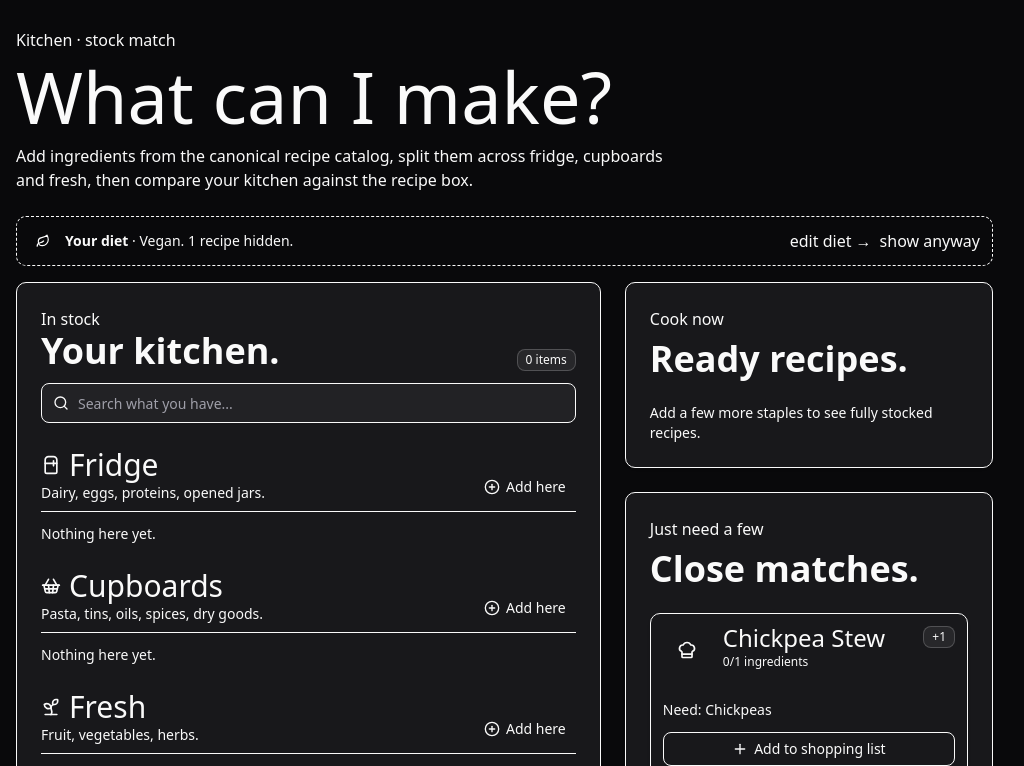
Test case: KitchenView diet ingredient catalog › hides mismatched recipes until the user chooses to show them
This screenshot has width=1024, height=766.
Expected: the text "Bacon Pasta" is not shown
Expected: the text "Chickpea Stew" is shown, [723,626,911,650]
Click the button "show anyway": x=930, y=241 [880,229,980,253]
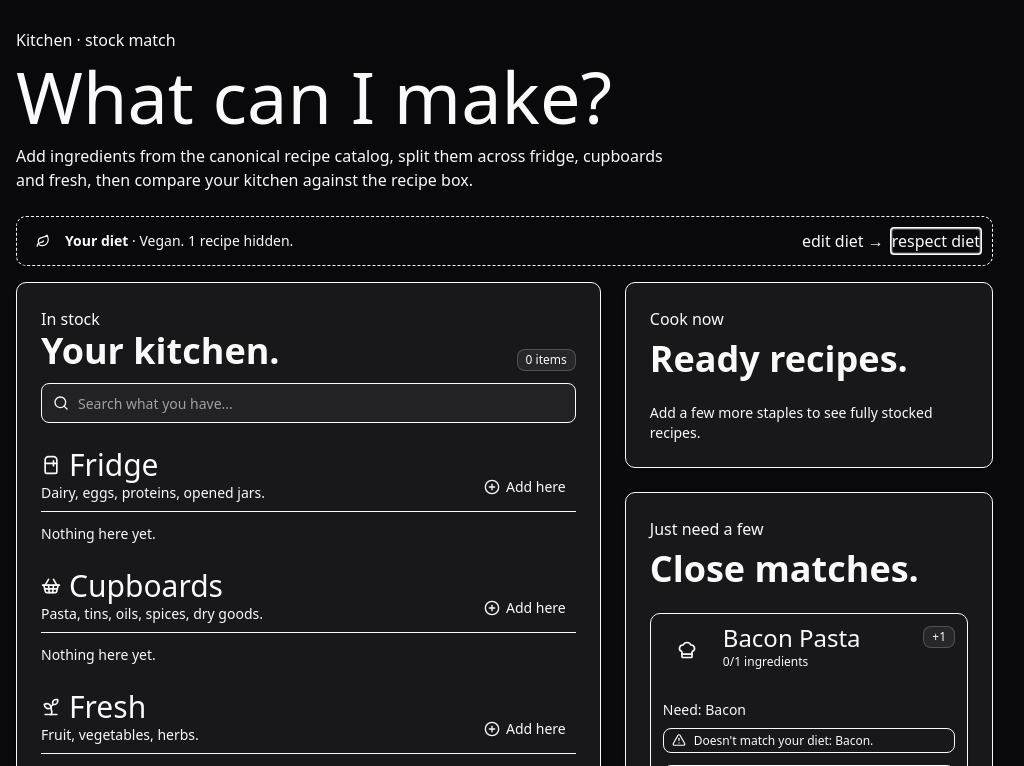
Expected: the text "Bacon Pasta" is shown, [723,621,861,654]
Expected: the text "Doesn't match your diet: Bacon." is shown, [694,733,873,748]
